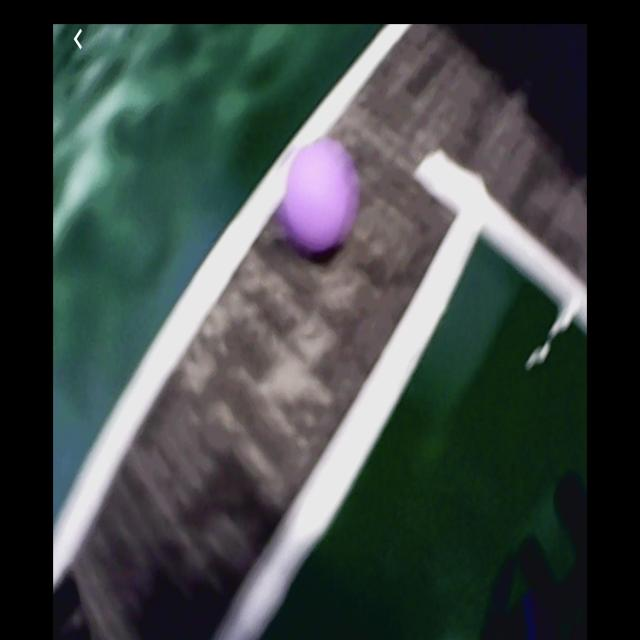ball: (288, 142, 359, 252)
